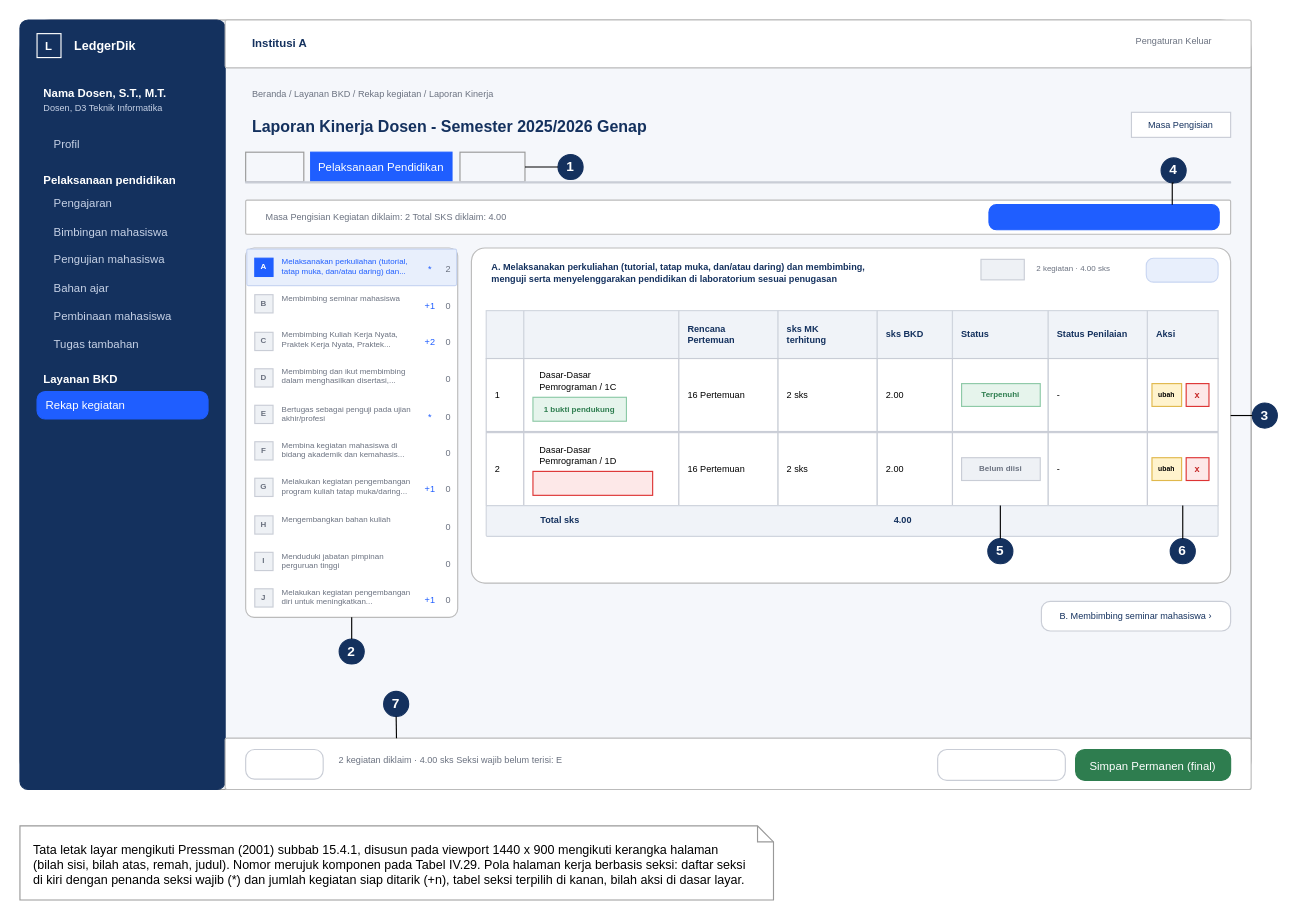
The diagram is 1297 pixels wide and 920 high, and some of its shapes have lost their labels. Here are the shapes that lost their labels. From the top down, the centre of each, then its label:
point 274,166: Biodata
point 492,166: Simpulan
point 1103,216: Tarik Semua Kinerja dari Portofolio (5)
point 1002,269: Wajib
point 1181,269: Tarik data (1)
point 504,334: No
point 601,334: Kegiatan
point 592,482: Belum ada bukti pendukung
point 284,763: ← Kembali
point 1001,764: Simpan Sementara
